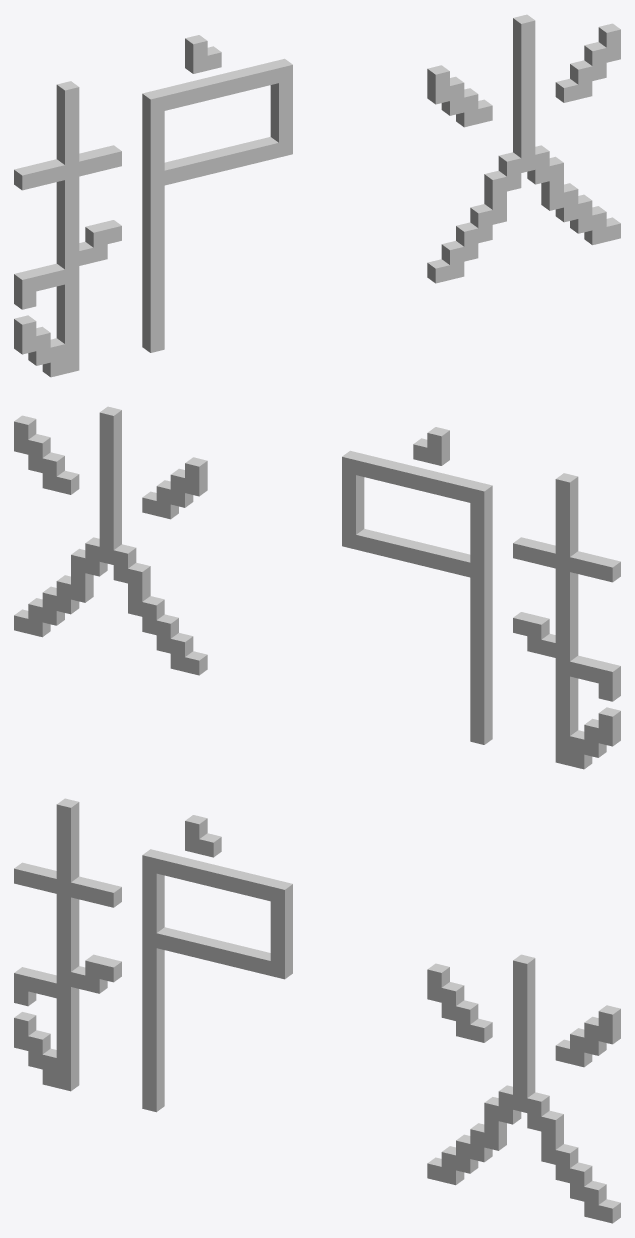
Rendered from title.obj.
3 renders of one model, top to bottom at view 1: azimuth 30°, elevation 25°; view 2: azimuth 150°, elevation 25°; view 3: azimuth 330°, elevation 25°, orthographic.
Bounding box in the file's own units: 4.2 × 2 × 0.1.
